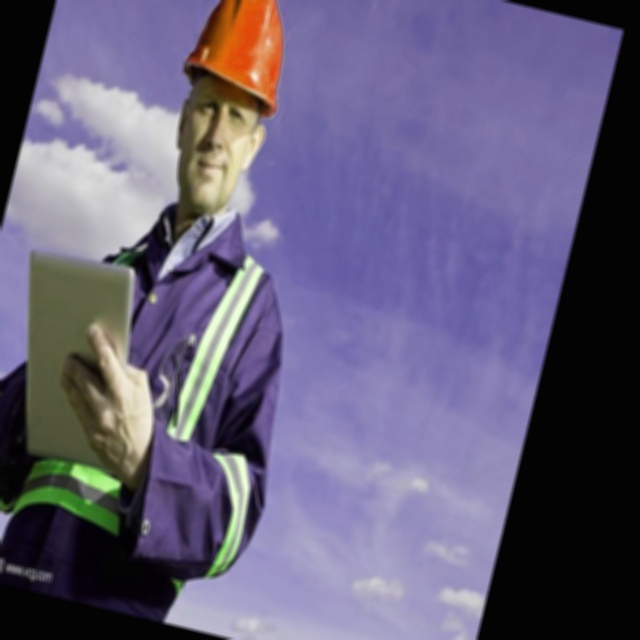Con_Casco: (154, 0, 305, 221)
Con_Chaleco: (19, 211, 302, 591)
